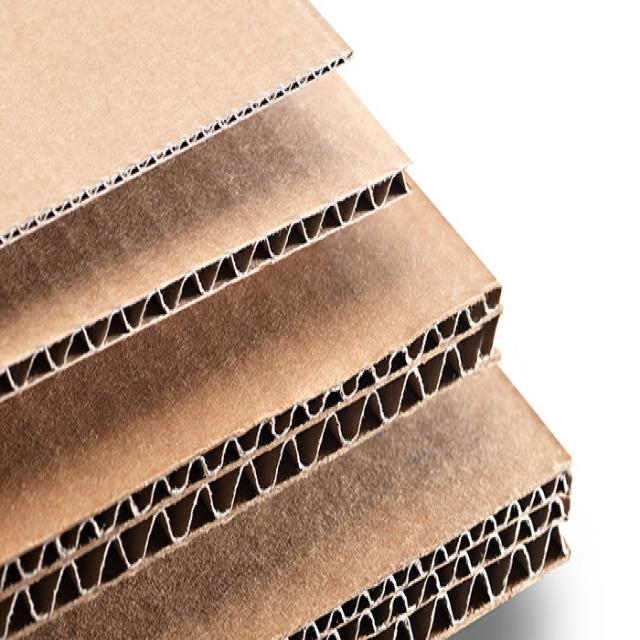Carton: (4, 0, 569, 640)
